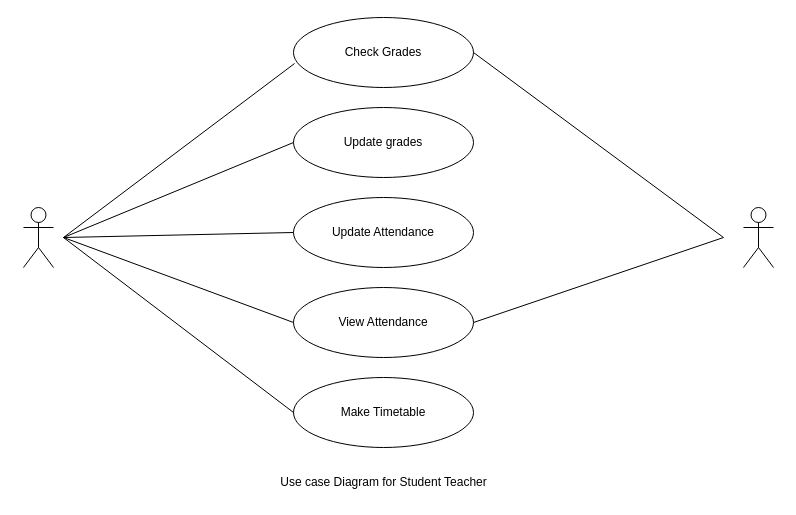
Some shapes in this 796 by 515 pixel diagram are drawn without their labels. The shapes that lost their labels are listed below. From the top down, each one's centre as x and y in pixels, then its label:
At [38,237]: "Teacher".
At [758,237]: "Student".
